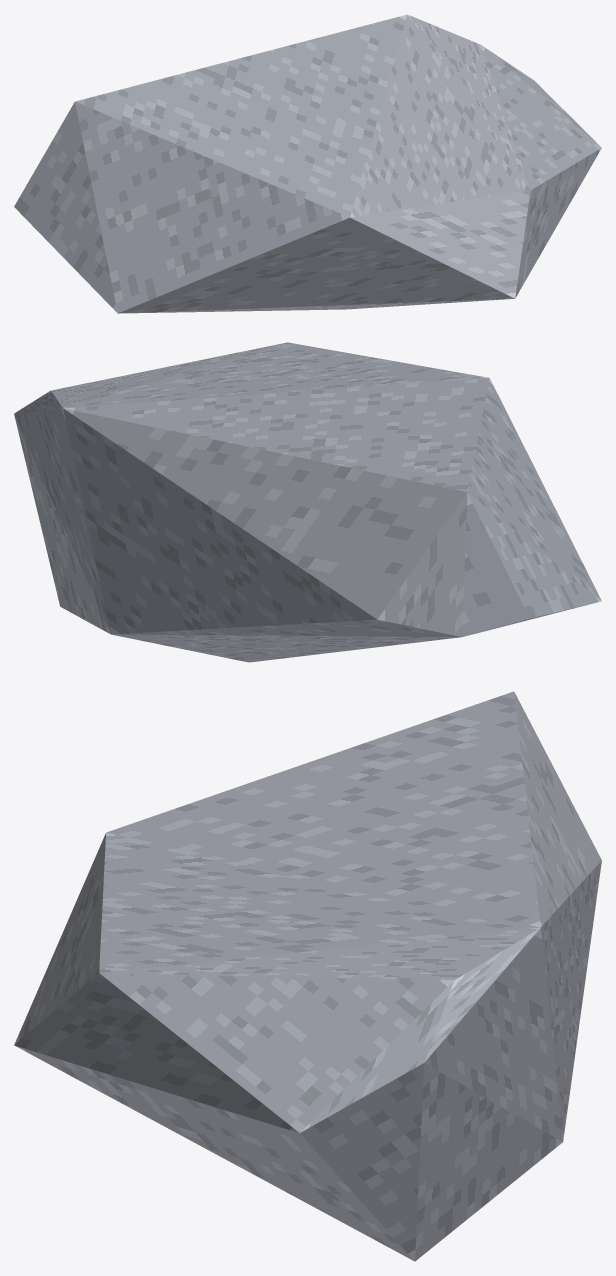
File: platinum_small.glb
3 views of the same model, one above another, from view 1: azimuth 30°, elevation 25°; view 2: azimuth 150°, elevation 25°; view 3: azimuth 270°, elevation 25° (orthographic). The views are drawn at different scales.
Parts seen in each view (by area): view 1: block_rough fragment; view 2: block_rough fragment; view 3: block_rough fragment.
Boxes of the visible parts, bbox=[...] form: block_rough fragment: bbox=[14, 14, 601, 313]; block_rough fragment: bbox=[14, 342, 601, 662]; block_rough fragment: bbox=[14, 691, 601, 1261].
Size of the model in its own units: 0.0188 by 0.0083 by 0.0136.
1 material, 1 textured.
